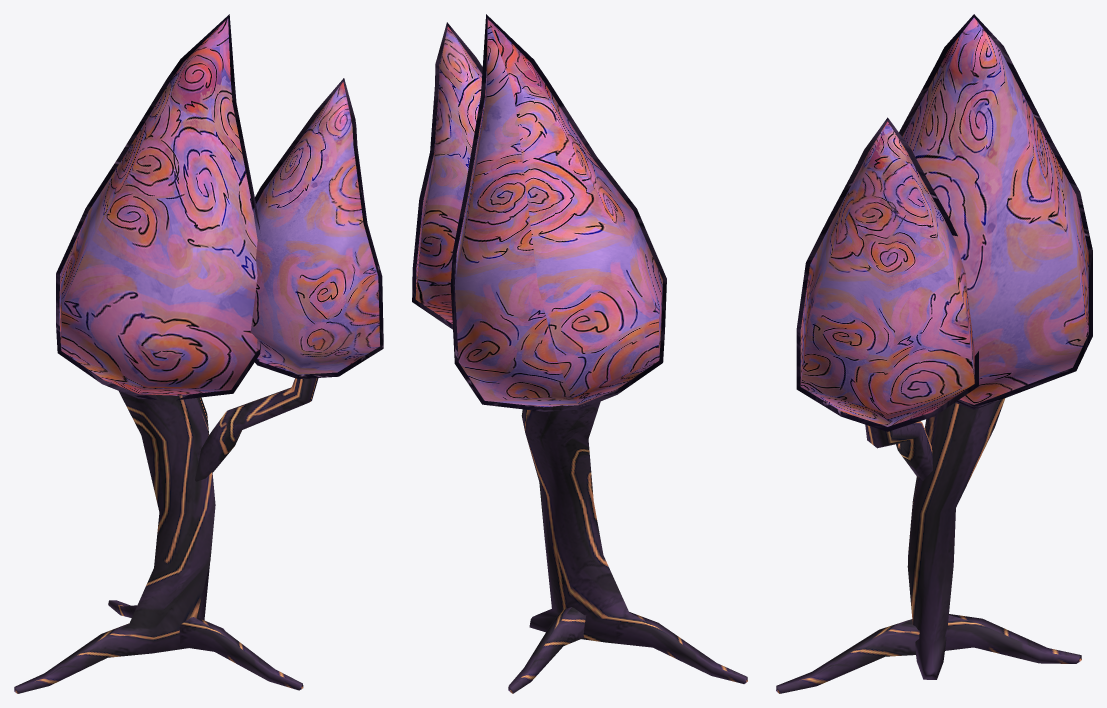
Rendered from polygonalmind-momuspark-060.glb.
3 views of the same model, side by side, from view 1: azimuth 30°, elevation 25°; view 2: azimuth 150°, elevation 25°; view 3: azimuth 270°, elevation 25° (orthographic). The views are drawn at different scales.
Parts seen in each view (by area): view 1: Tree_04_Art; view 2: Tree_04_Art; view 3: Tree_04_Art.
Part boxes in pixels (left/top/right/bottom): Tree_04_Art: left=14, top=14, right=383, bottom=693; Tree_04_Art: left=412, top=14, right=747, bottom=693; Tree_04_Art: left=776, top=14, right=1092, bottom=693.
Size of what is drawn, in the model's own units: 8.57 by 14.52 by 6.07.
Materials: 3 (3 with a texture image).
